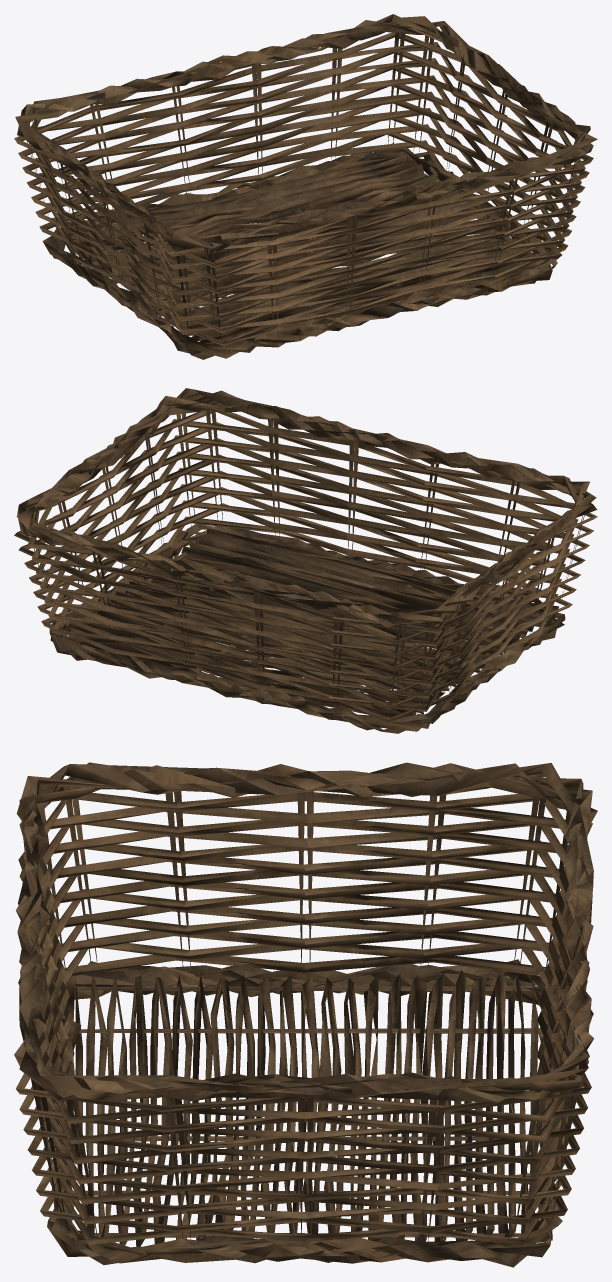
Rendered from SM_WickerBasket_01.gltf.
3 views of the same model, one above another, from view 1: azimuth 30°, elevation 25°; view 2: azimuth 150°, elevation 25°; view 3: azimuth 270°, elevation 25° (orthographic). The views are drawn at different scales.
Parts seen in each view (by area): view 1: SM_WickerBasket_01; view 2: SM_WickerBasket_01; view 3: SM_WickerBasket_01.
Part boxes in pixels (left/top/right/bottom): SM_WickerBasket_01: left=14, top=14, right=597, bottom=359; SM_WickerBasket_01: left=14, top=388, right=597, bottom=733; SM_WickerBasket_01: left=14, top=762, right=597, bottom=1267.
Bounding box in the file's own units: 0.3857 × 0.1193 × 0.2949.
Materials: 1 (1 with a texture image).
